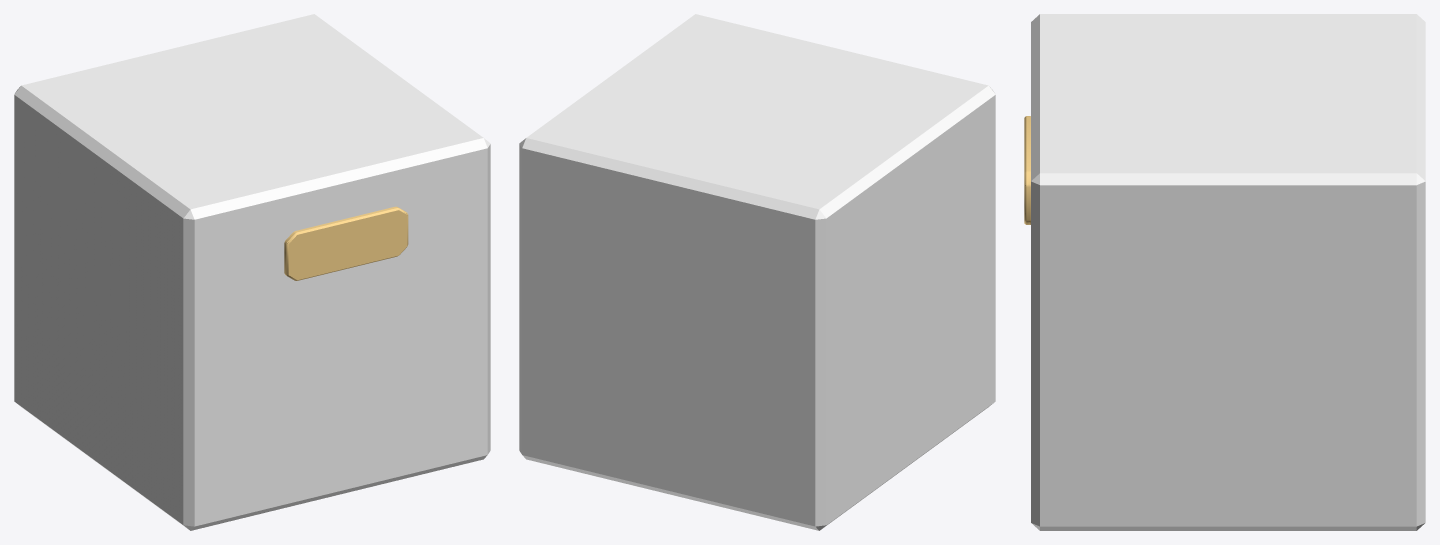
Rendered from ScluptureBase.fbx.
3 views of the same model, side by side, from view 1: azimuth 30°, elevation 25°; view 2: azimuth 150°, elevation 25°; view 3: azimuth 270°, elevation 25° (orthographic). The views are drawn at different scales.
Parts seen in each view (by area): view 1: Base, GoldPlate; view 2: Base; view 3: Base, GoldPlate.
Boxes of the visible parts, x1,y1,x2,y2 form: Base: [14, 14, 490, 530]; GoldPlate: [284, 206, 408, 280]; Base: [519, 14, 995, 530]; Base: [1031, 14, 1425, 530]; GoldPlate: [1024, 116, 1030, 224].
Size of the model in its own units: 45.63 by 45.63 by 46.41.
Materials: 2 (2 with a texture image).
